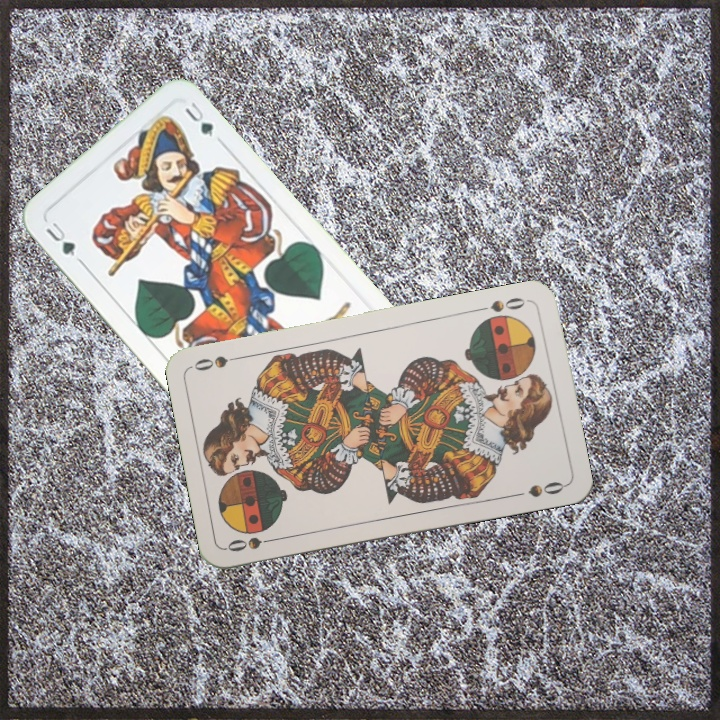GU: (41, 218, 79, 259)
SO: (223, 532, 282, 555), (474, 293, 533, 315)
